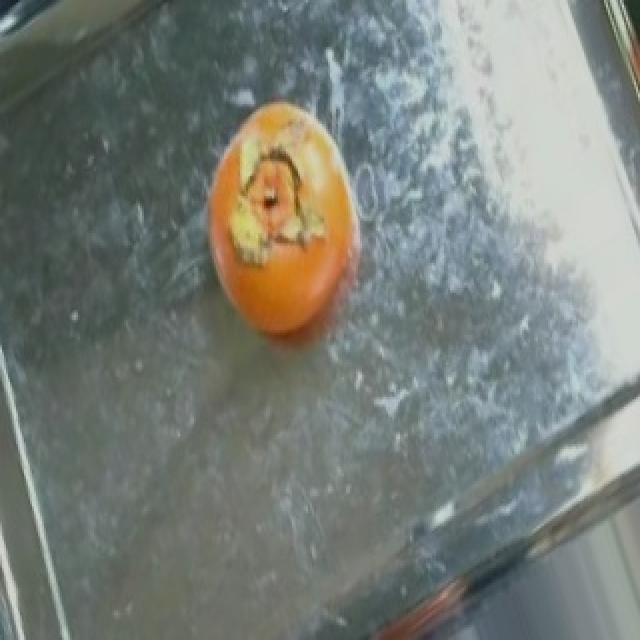Fruit: (180, 82, 384, 382), (592, 0, 640, 186)
